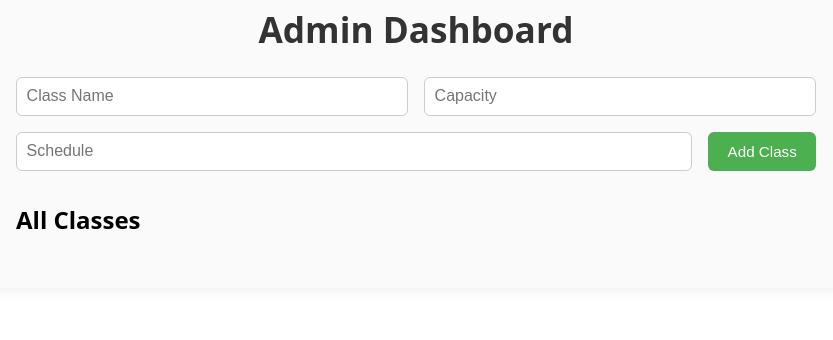
Test: AdminDashboard › adds a new class
Type "Science" into the field with placeholder "Class Name" at (212, 96), box [16,77,408,116]
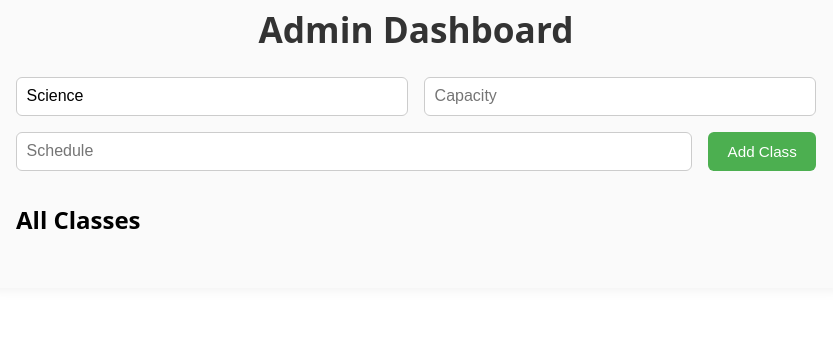
Type "30" into the number field with placeholder "Capacity" at (620, 96), box [424,77,816,116]
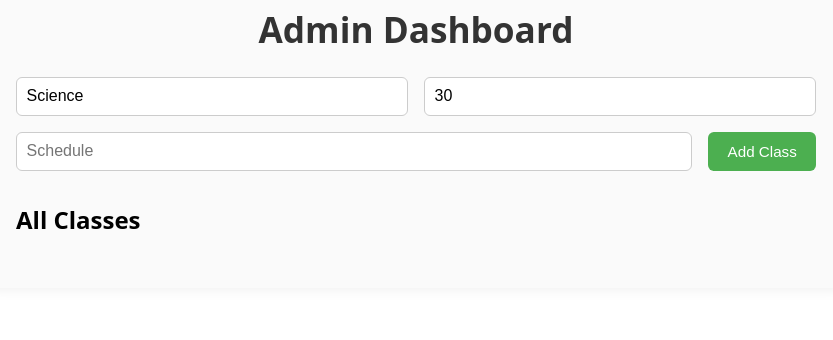
Type "TTh 9-10" into the field with placeholder "Schedule" at (354, 151), box [16,132,692,171]
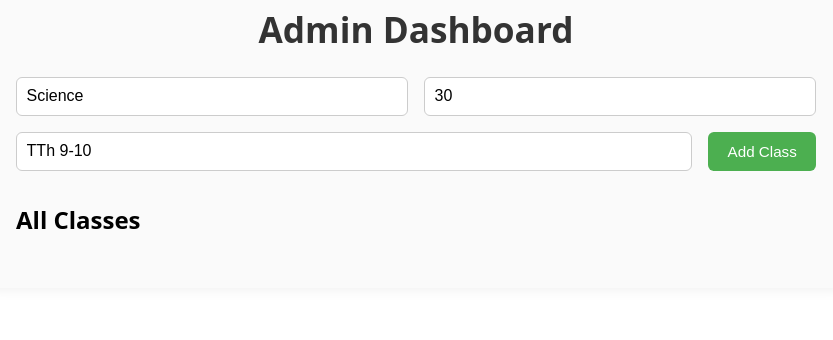
Click the button "Add Class" at (762, 151), box [708,132,816,171]
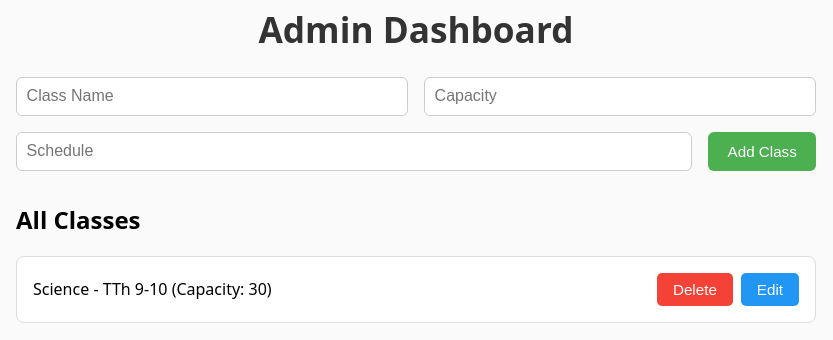
Now the list item "Science - TTh 9-10 (Capacity: 30) Delete Edit" is shown, box [16,256,816,323]
